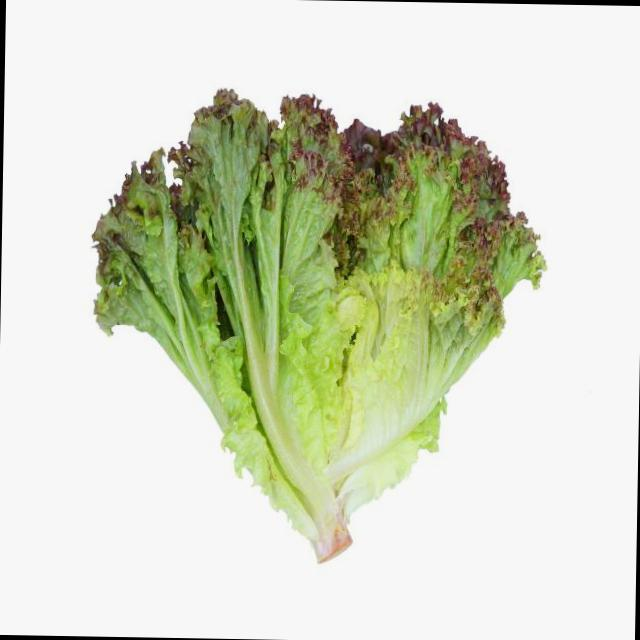Lettuce-Ready-to-Harvest: (95, 91, 542, 560)
